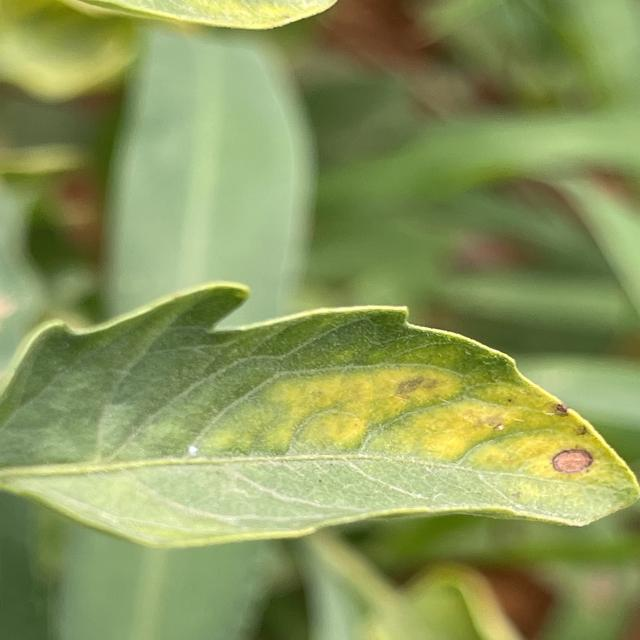tomato_early blight: (0, 280, 640, 546)
